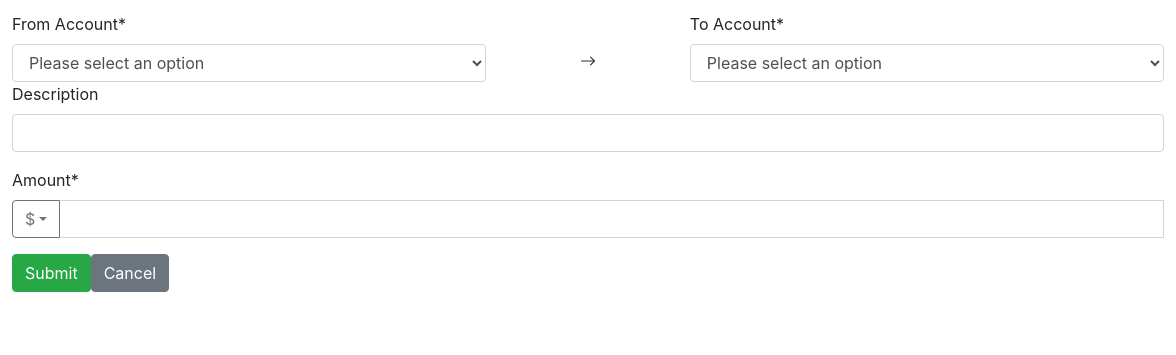
TransactionForm › Amount › renders the max validation error for Amount when value is 10000
The image size is (1176, 355).
In the number field with test id "amount": (612, 219) [59,200,1164,238], type "10000"
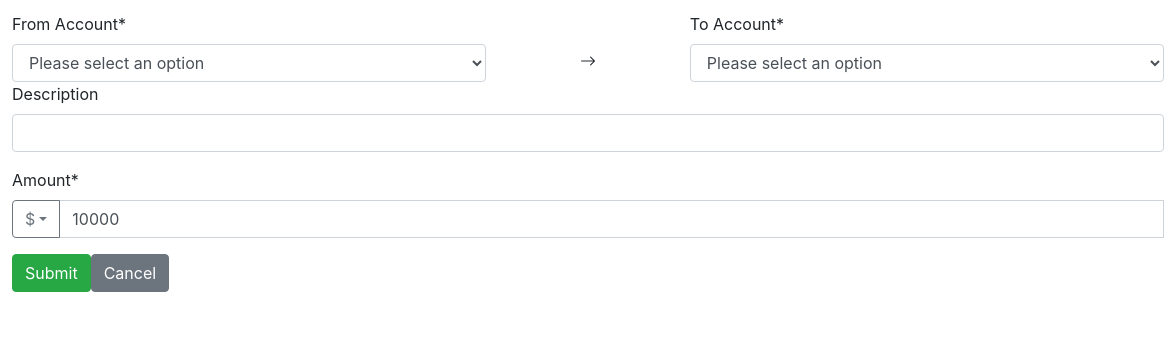
Click the button with test id "submit": (51, 273) [12,254,91,292]
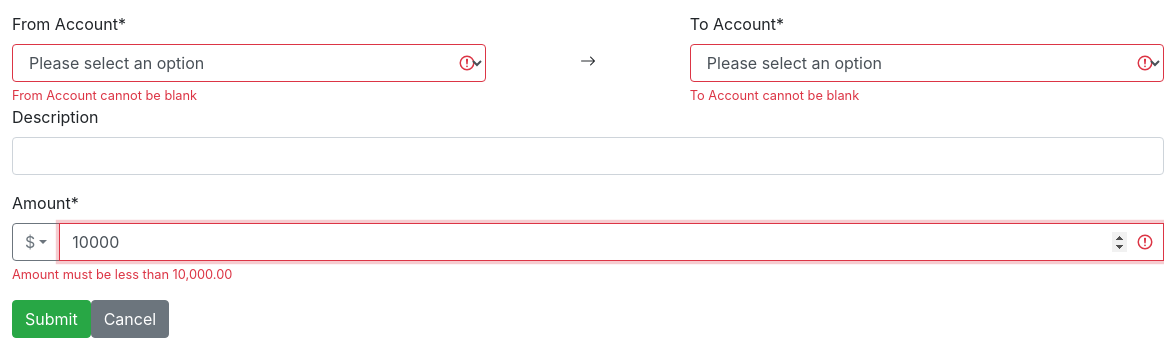
Check: the text with test id "invalid-amount" reads "Amount must be less than 10,000.00", box [12,267,232,282]
